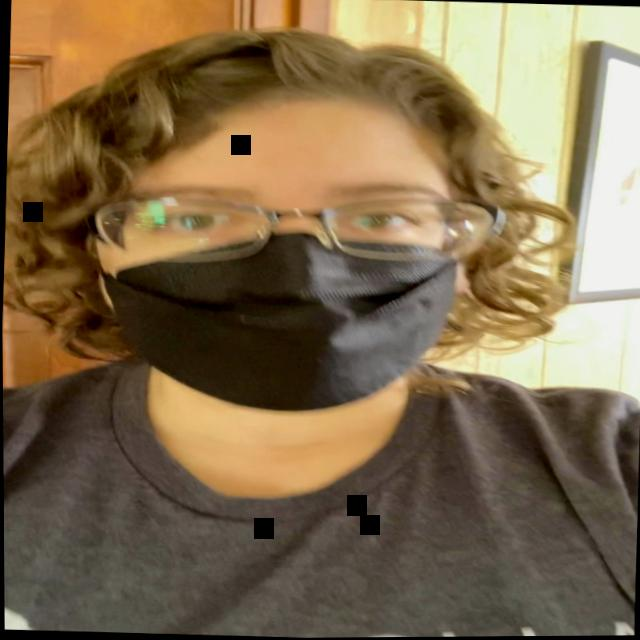Mask: (82, 82, 506, 423)
